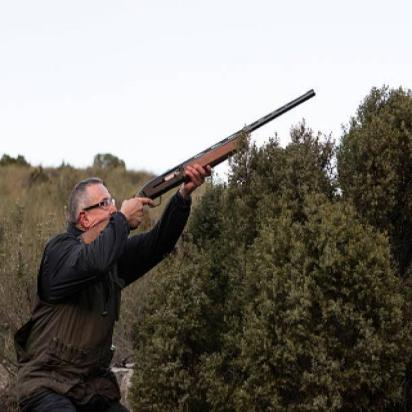Gun: (121, 86, 315, 217)
